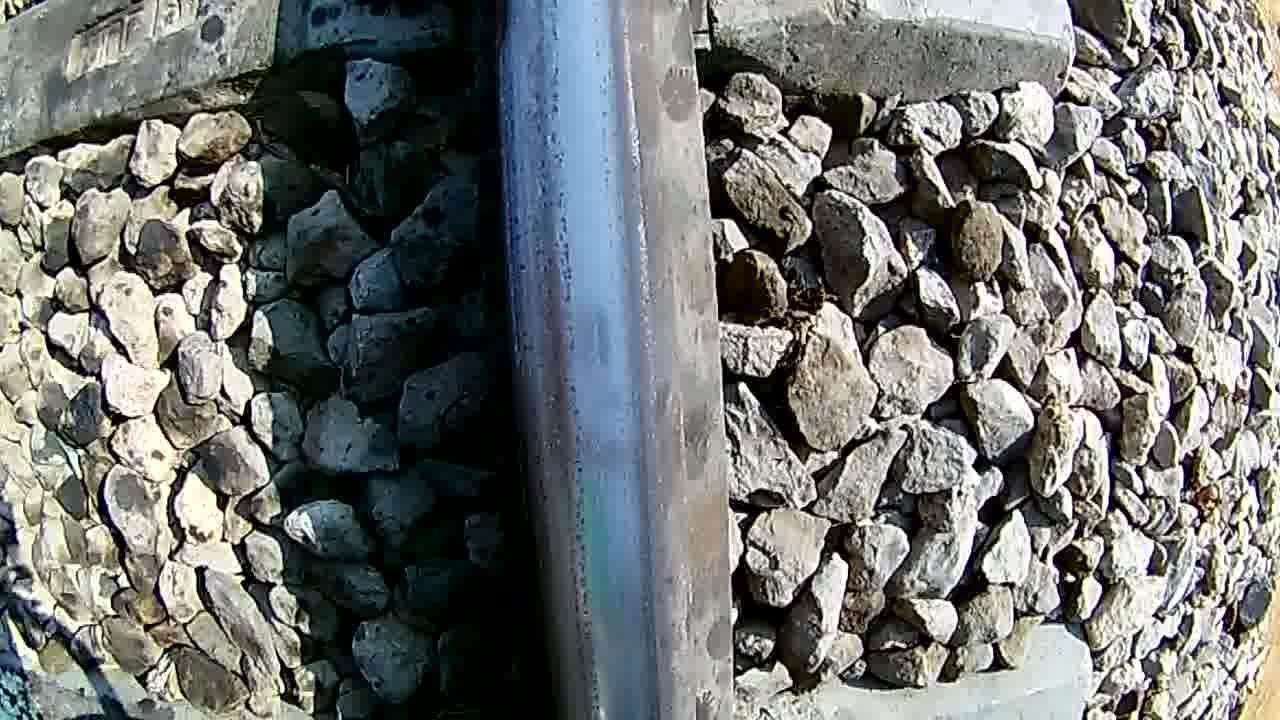crack: (496, 0, 674, 720)
